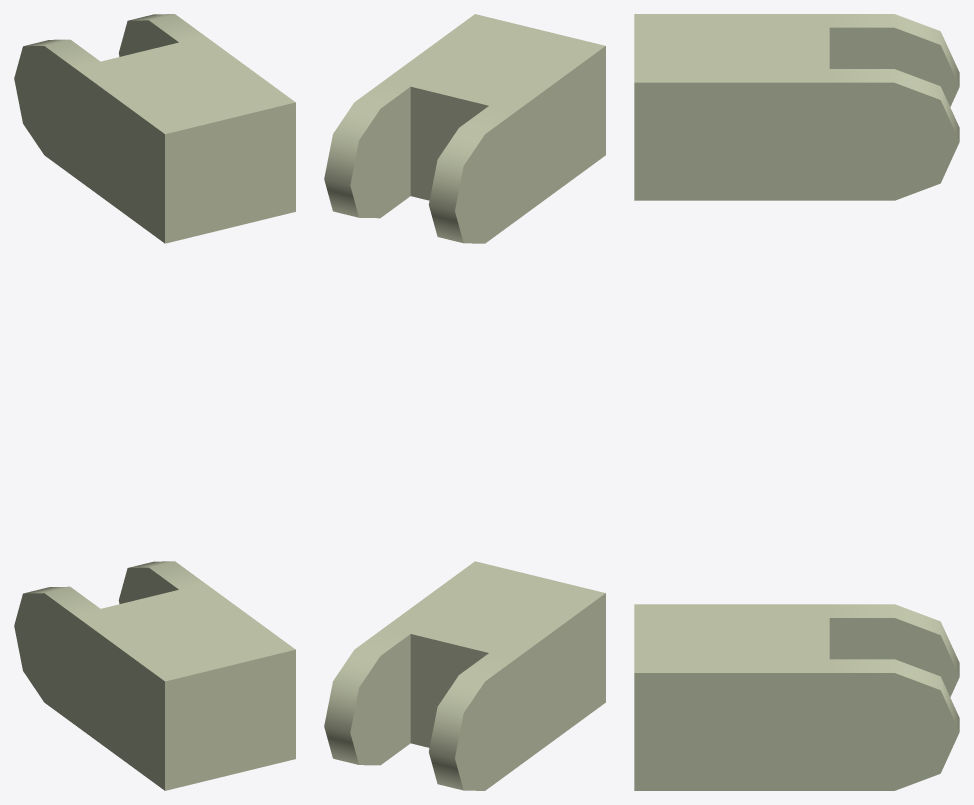
Rendered from lepus_landing_leg_srf_1_base.obj.
3 views of the same model, side by side, from view 1: azimuth 30°, elevation 25°; view 2: azimuth 150°, elevation 25°; view 3: azimuth 270°, elevation 25° (orthographic). The views are drawn at different scales.
Visible parts, largest first — view 1: lepus_landing_leg_srf_1_base; view 2: lepus_landing_leg_srf_1_base; view 3: lepus_landing_leg_srf_1_base.
Part boxes in pixels (x1,y1,x2,y2): lepus_landing_leg_srf_1_base: (14, 14, 295, 790); lepus_landing_leg_srf_1_base: (324, 14, 605, 790); lepus_landing_leg_srf_1_base: (634, 14, 959, 790).
Bounding box in the file's own units: 0.0625 × 0.3 × 0.125.
